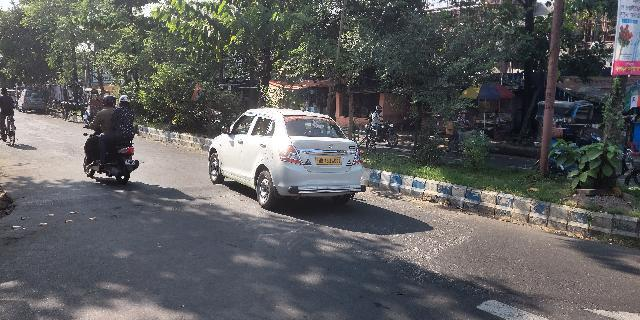Car: (201, 103, 366, 212)
Cycle: (3, 90, 21, 149)
Motorbike: (68, 97, 144, 183)
